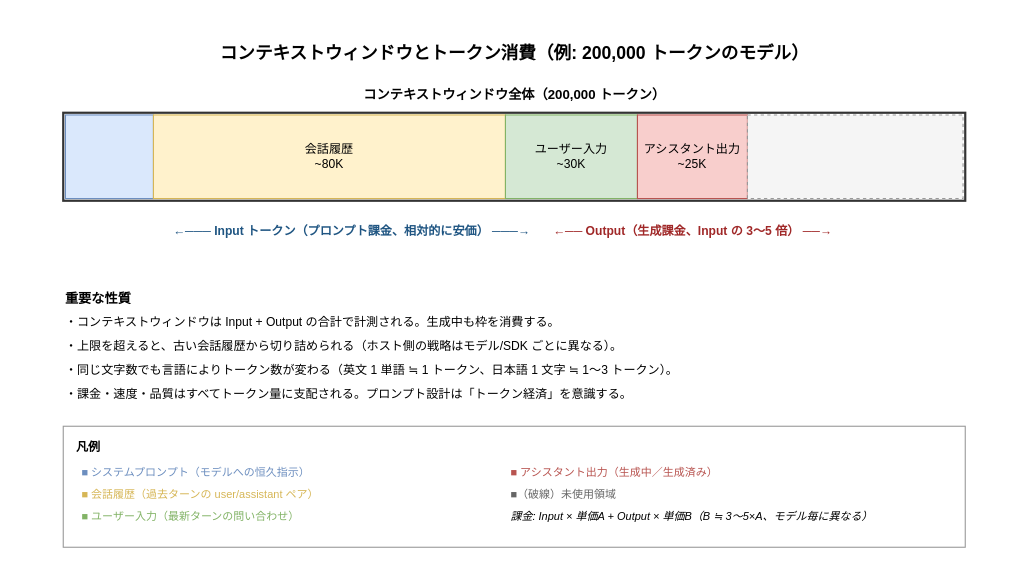
This 1027x587 diagram has some shape labels left out. The shapes that lost their labels are listed below. From the top down, each one's centre as x and y in pixels, then its label:
At point 108,156: "システム プロンプト ~5K".
At point 854,156: "未使用 ~60K".
